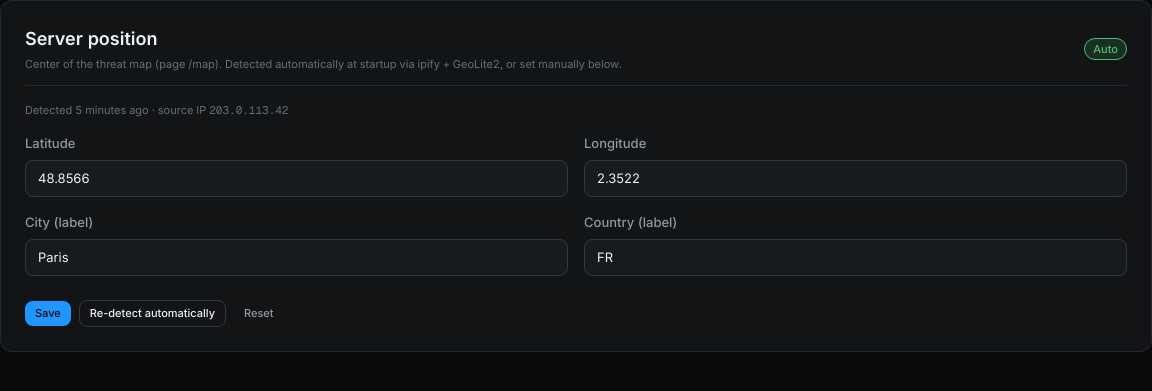
Test: ServerPositionSection — validation › rejects lat > 90 with an inline error
The image size is (1152, 391).
Type "95" into the number field with test id "server-position-lat-input" at (296, 178), box [25, 160, 568, 197]
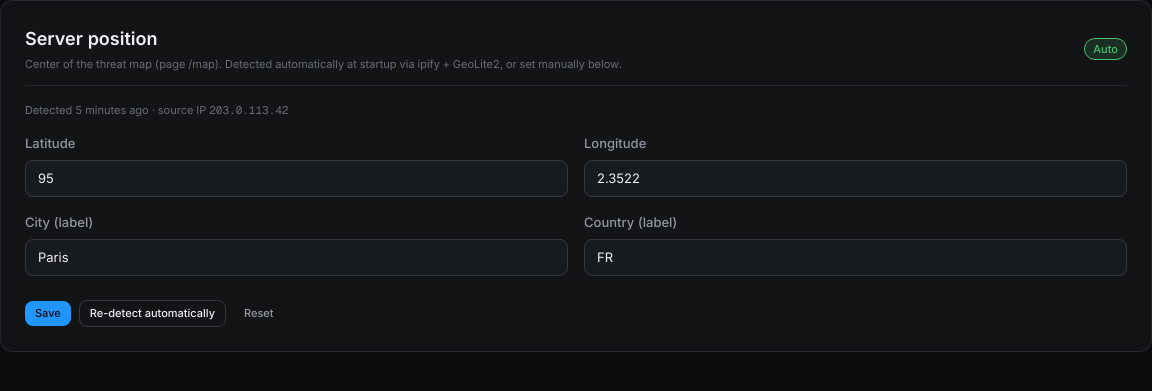
Submit the form with test id "server-position-form", box [25, 134, 1127, 326]
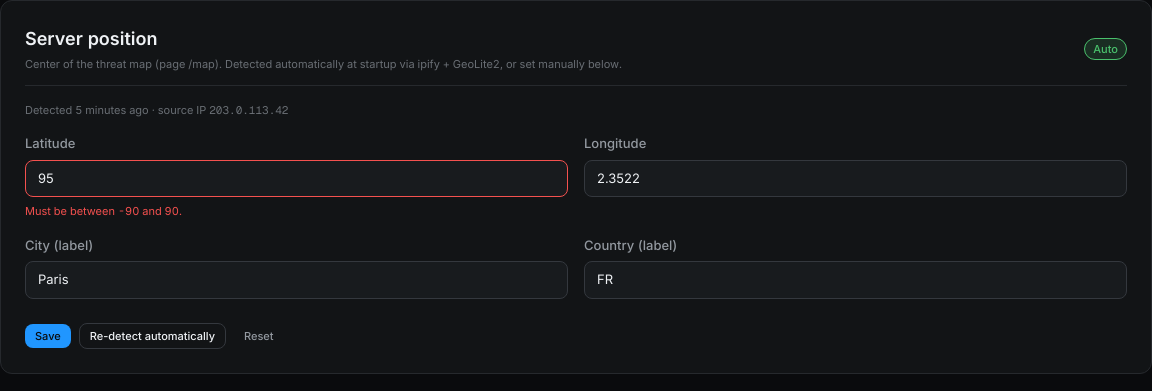
expect the text "Must be between -90 and 90." is shown: met, box [25, 204, 182, 218]
